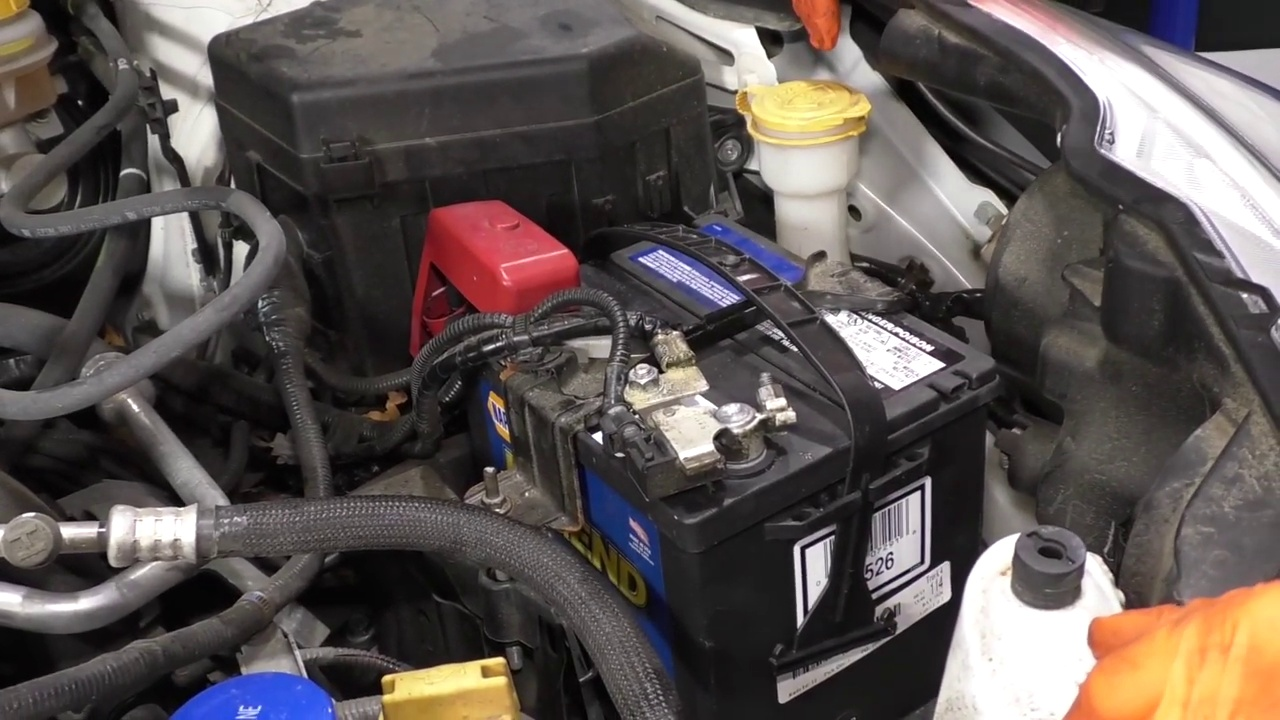battery: (461, 217, 994, 519)
neg_connected: (638, 364, 804, 494)
pos_connected: (407, 178, 590, 382)
